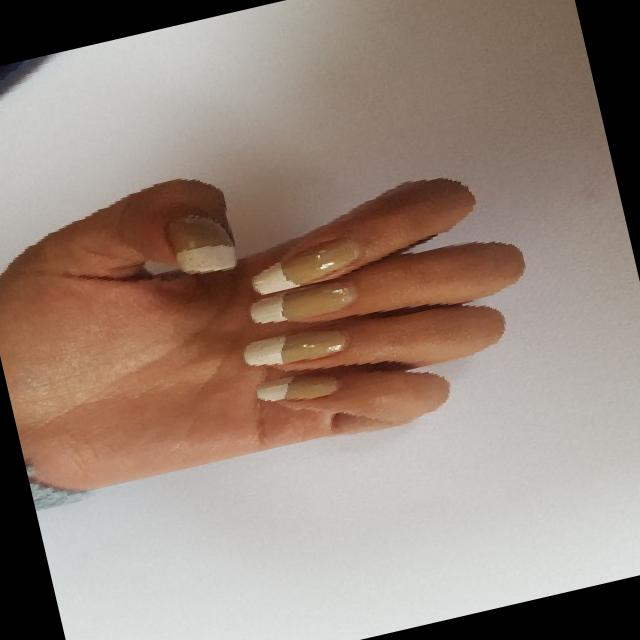Nail: (251, 239, 359, 295), (249, 280, 357, 323), (167, 215, 237, 274), (243, 328, 347, 366), (256, 374, 338, 401)
